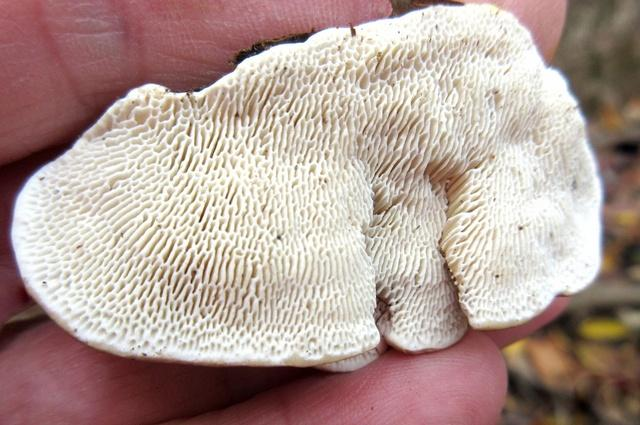poisonous_mushroom: (9, 2, 603, 373)
